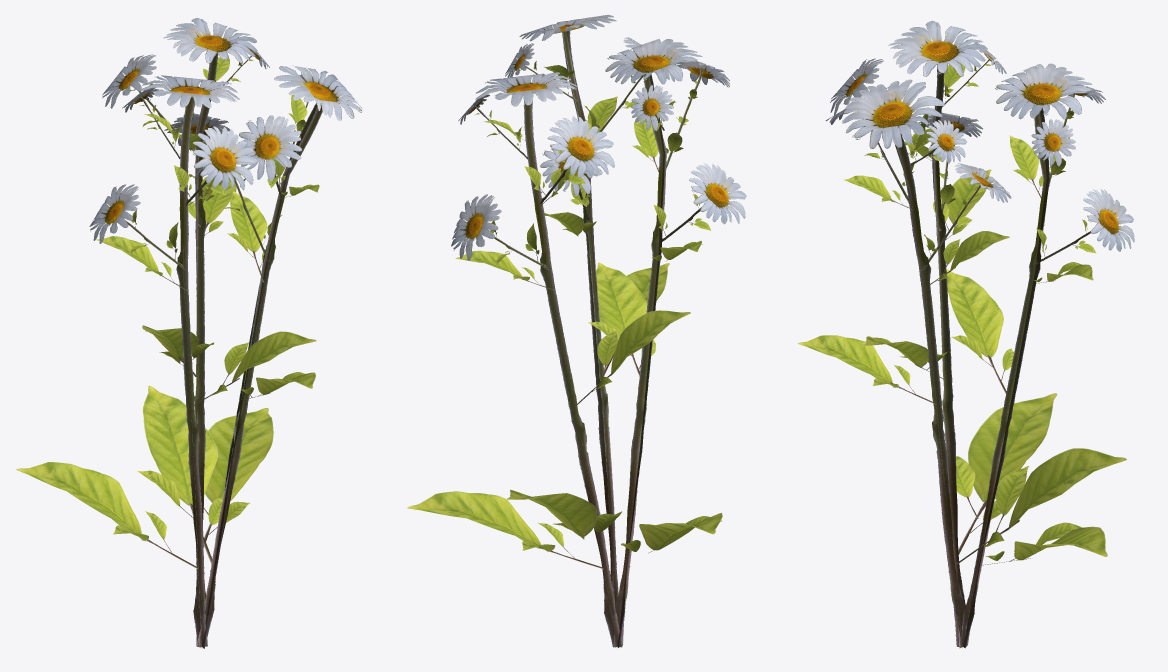
File: WhiteFLower3_2.fbx
3 renders of one model, left to right at view 1: azimuth 30°, elevation 25°; view 2: azimuth 150°, elevation 25°; view 3: azimuth 270°, elevation 25°, orthographic. The views are drawn at different scales.
Visible parts, largest first — view 1: WhiteFLower3_2; view 2: WhiteFLower3_2; view 3: WhiteFLower3_2.
Part boxes in pixels (x1,y1,x2,y2): WhiteFLower3_2: (16, 18, 362, 648); WhiteFLower3_2: (407, 14, 746, 647); WhiteFLower3_2: (798, 20, 1134, 648).
Size of the model in its own units: 0.1461 by 0.2534 by 0.1369.
